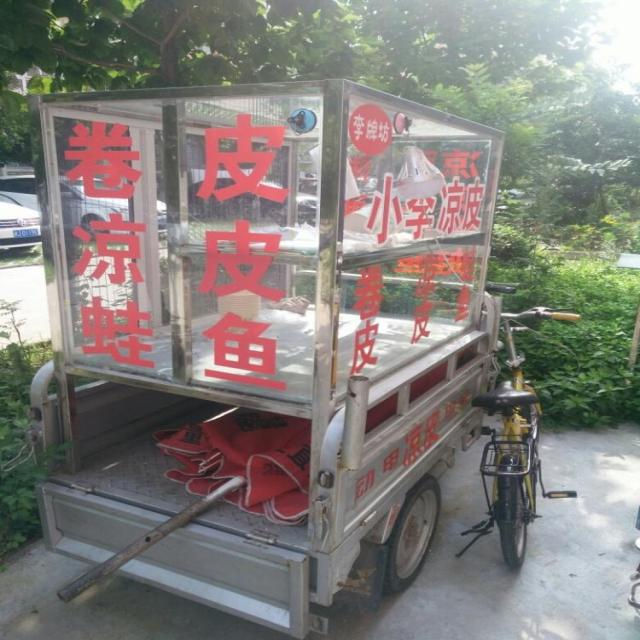bicycle: (436, 303, 583, 571)
car: (0, 173, 169, 239), (0, 199, 43, 254)
tricycle: (28, 77, 516, 639)
